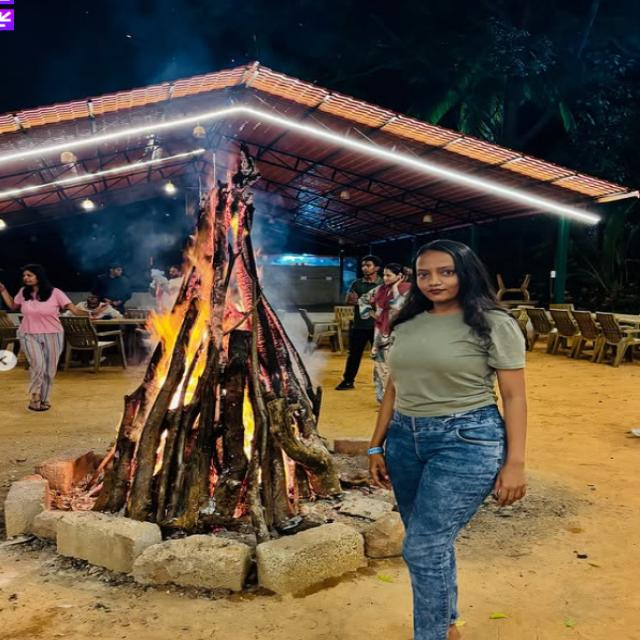fire: (135, 307, 299, 409), (182, 232, 264, 305), (199, 154, 261, 232)
